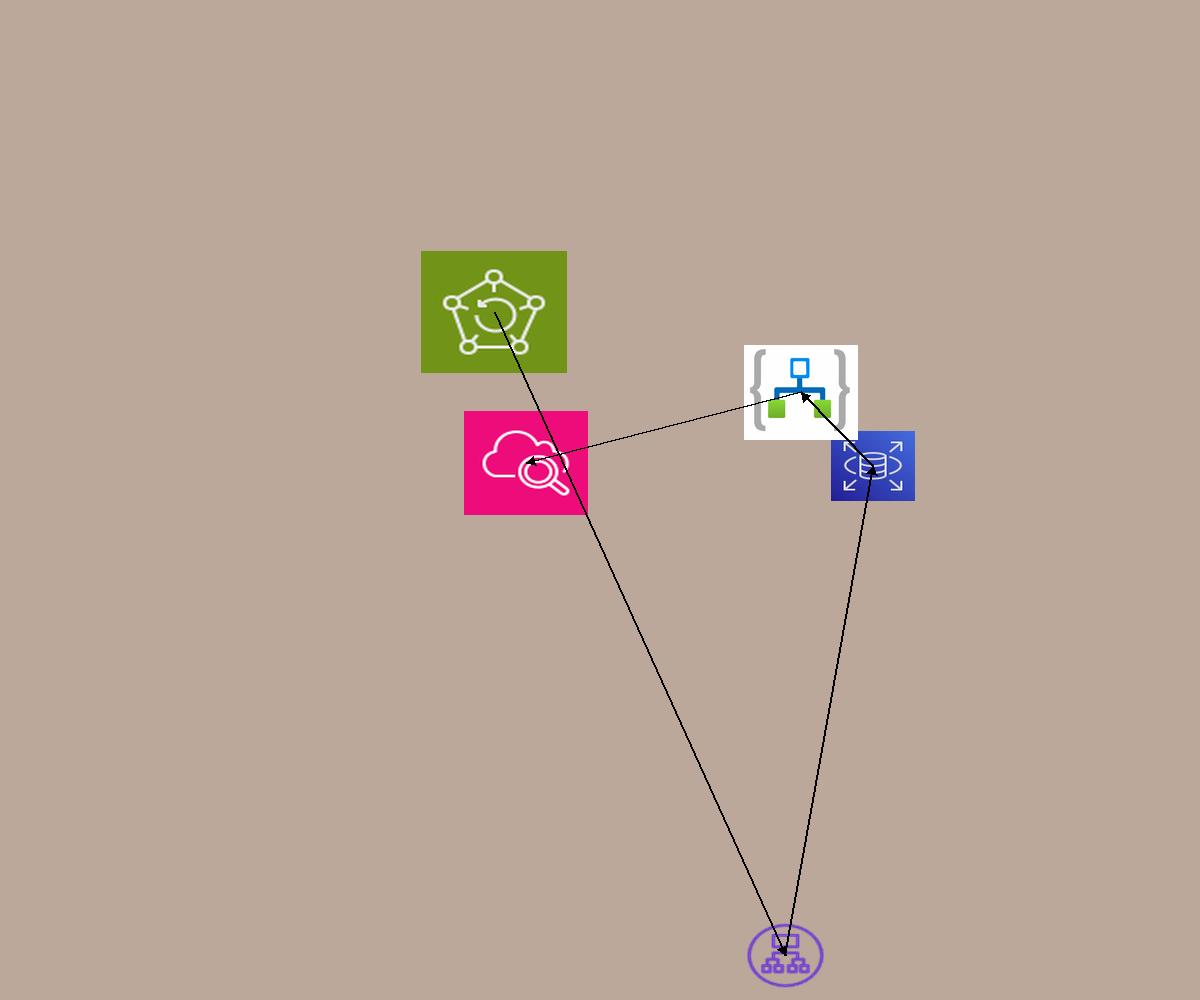AWS-Backup: (421, 251, 567, 373)
AWS-CloudWatch: (464, 411, 588, 515)
AWS-RDS: (831, 431, 915, 501)
AWS-Res_Elastic-Load-Balancing_Application-Load-Balancer: (744, 921, 827, 990)
Azure_integration-204-Logic-Apps: (744, 345, 858, 440)
